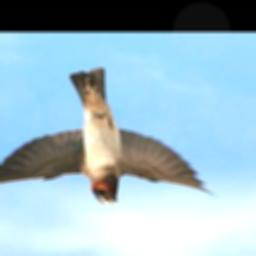Swallow: (0, 68, 220, 206)
